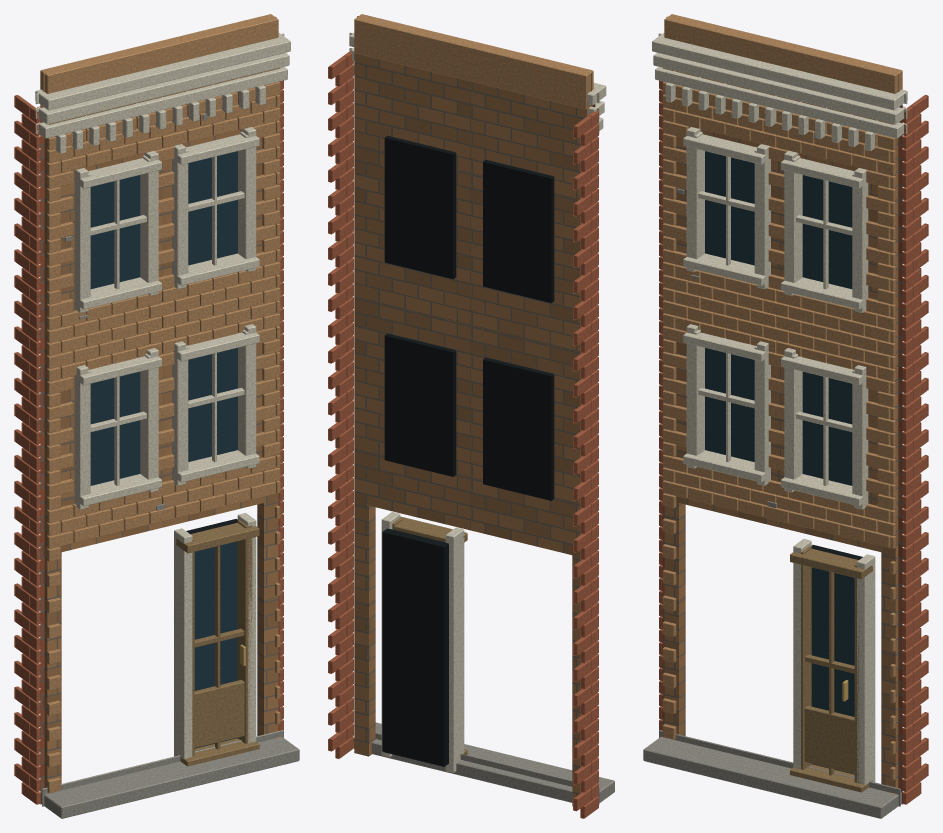
File: VICT31_lod0.glb
3 renders of one model, left to right at view 1: azimuth 30°, elevation 25°; view 2: azimuth 150°, elevation 25°; view 3: azimuth 330°, elevation 25°, orthographic.
Visible parts, largest first — view 1: VICT31_FRONT_LOD0; view 2: VICT31_FRONT_LOD0; view 3: VICT31_FRONT_LOD0.
Part boxes in pixels (box(x1,y1,x2,y2)): VICT31_FRONT_LOD0: box(14, 14, 299, 818); VICT31_FRONT_LOD0: box(328, 14, 614, 818); VICT31_FRONT_LOD0: box(643, 14, 928, 818).
Bounding box in the file's own units: 3.44 × 9.66 × 1.02.
15 materials, 12 textured.
